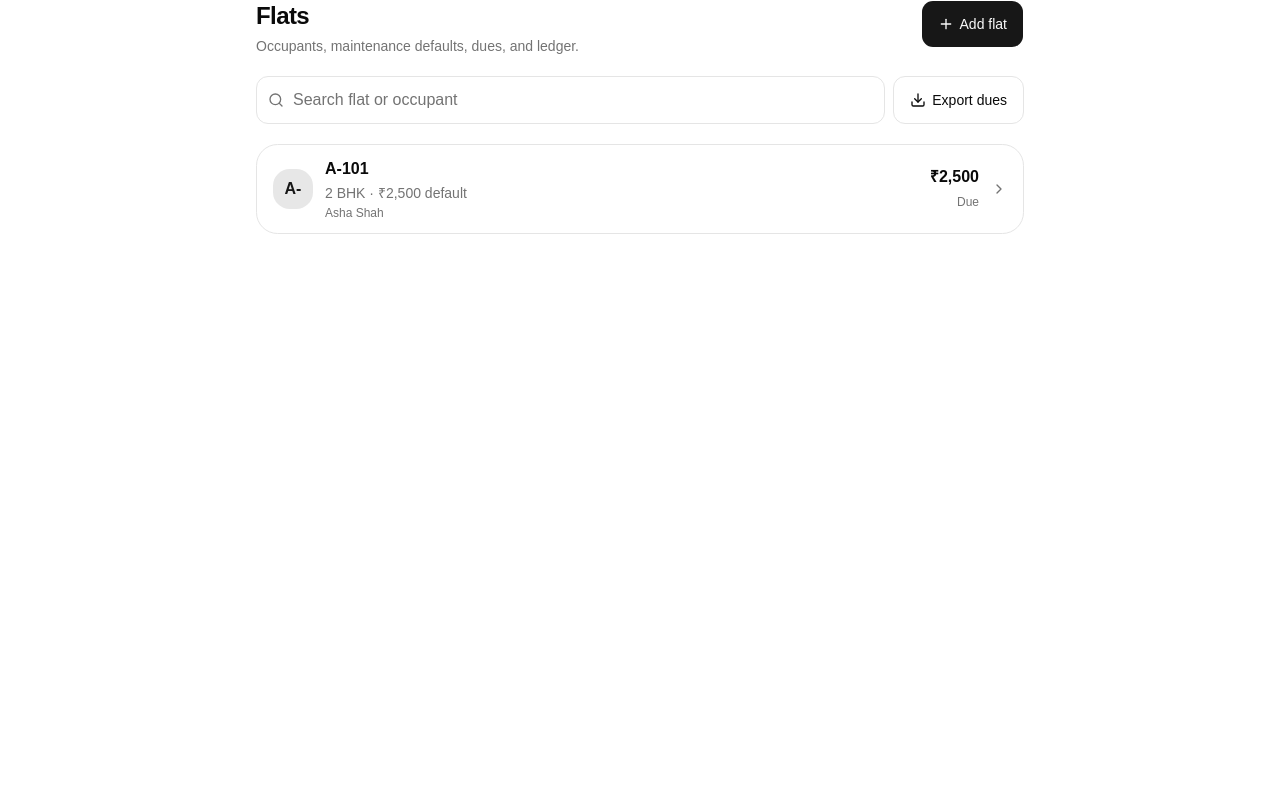
Test: FlatsPage — searchable setup and contextual detail › updates opening due from flat detail and refreshes visible totals
The width and height of the screenshot is (1280, 800).
Click the button "A- A-101 2 BHK · ₹2,500 default Asha Shah ₹2,500 Due".
click(293, 189)  # box [257,145,1023,233]
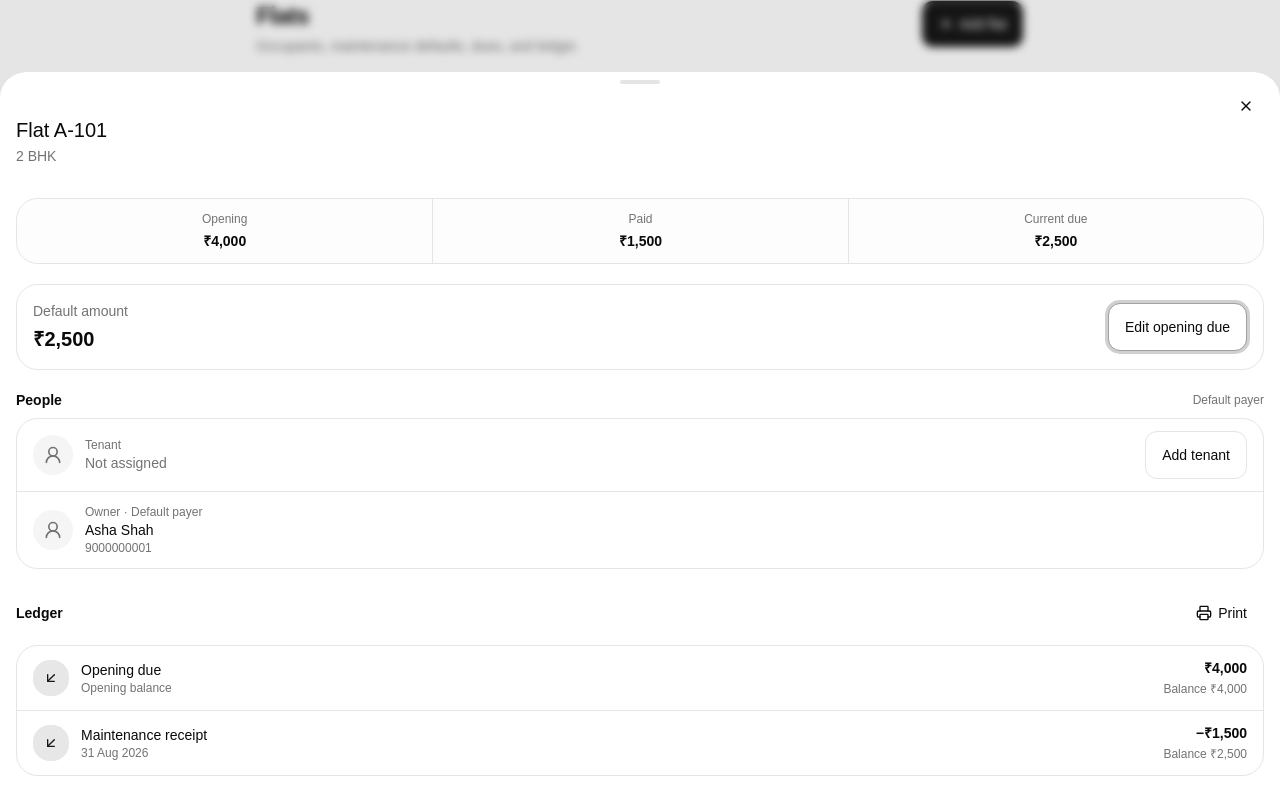
Click the button "Edit opening due".
click(1177, 327)  # box [1108,303,1247,351]
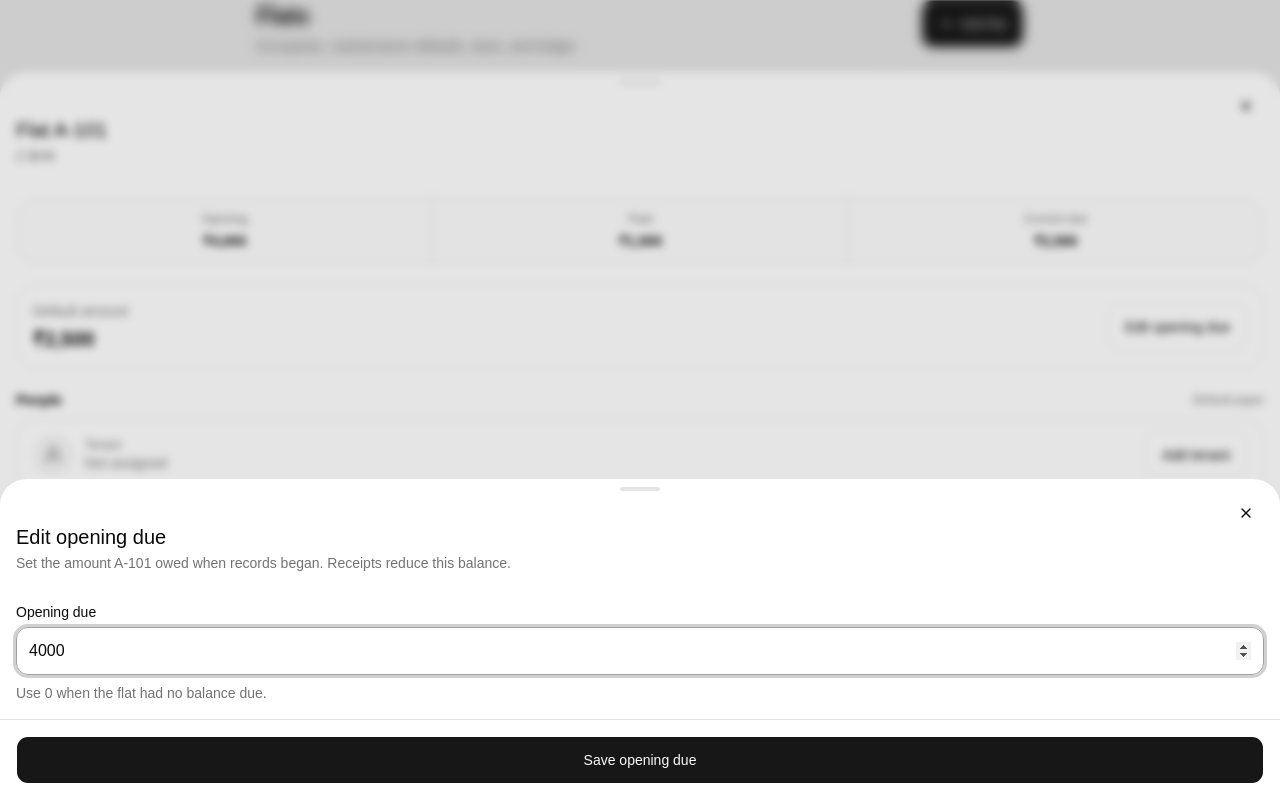
Replace the text in the number field labelled "Opening due" with "5000" at (640, 651), box [16,627,1264,675]
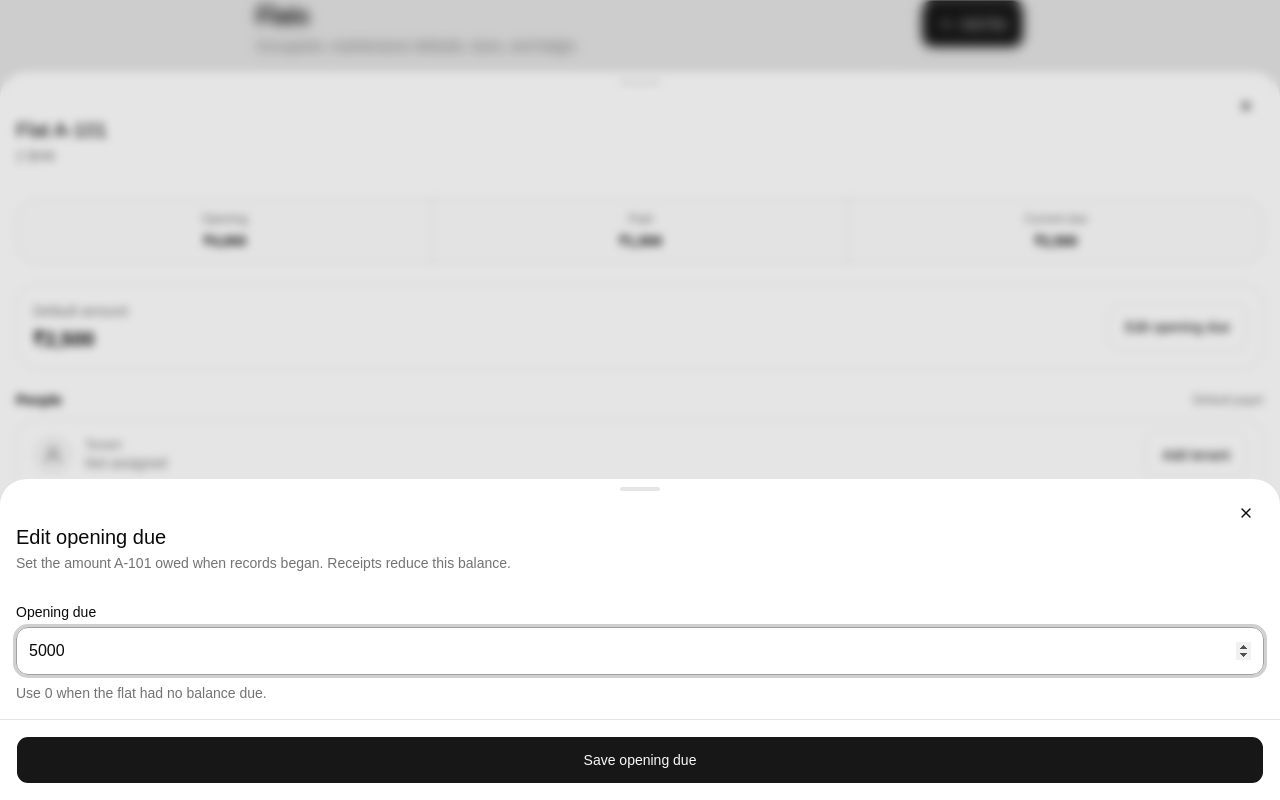
Click the button "Save opening due".
click(640, 760)  # box [16,736,1264,784]
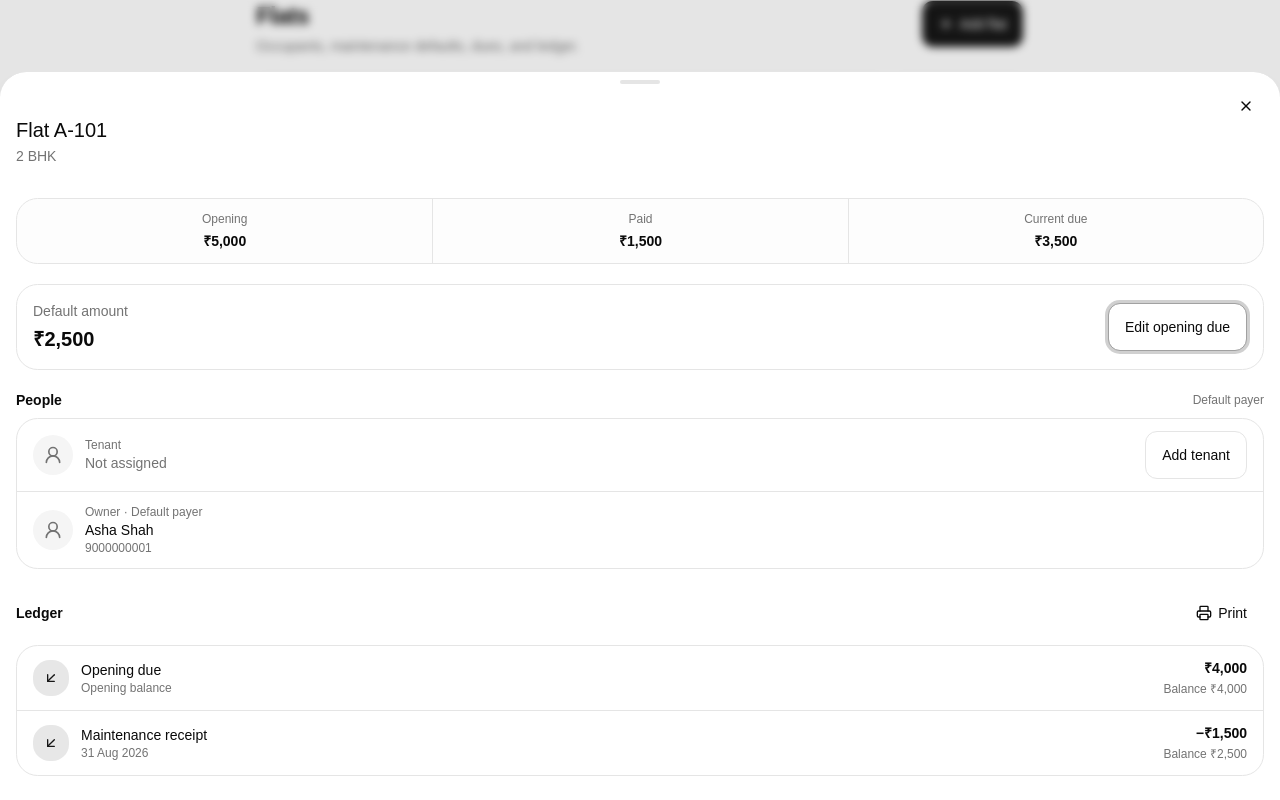
Now the text "₹5,000" is shown, box [203,233,246,249]
Now the text "₹3,500" is shown, box [1034,233,1077,249]
